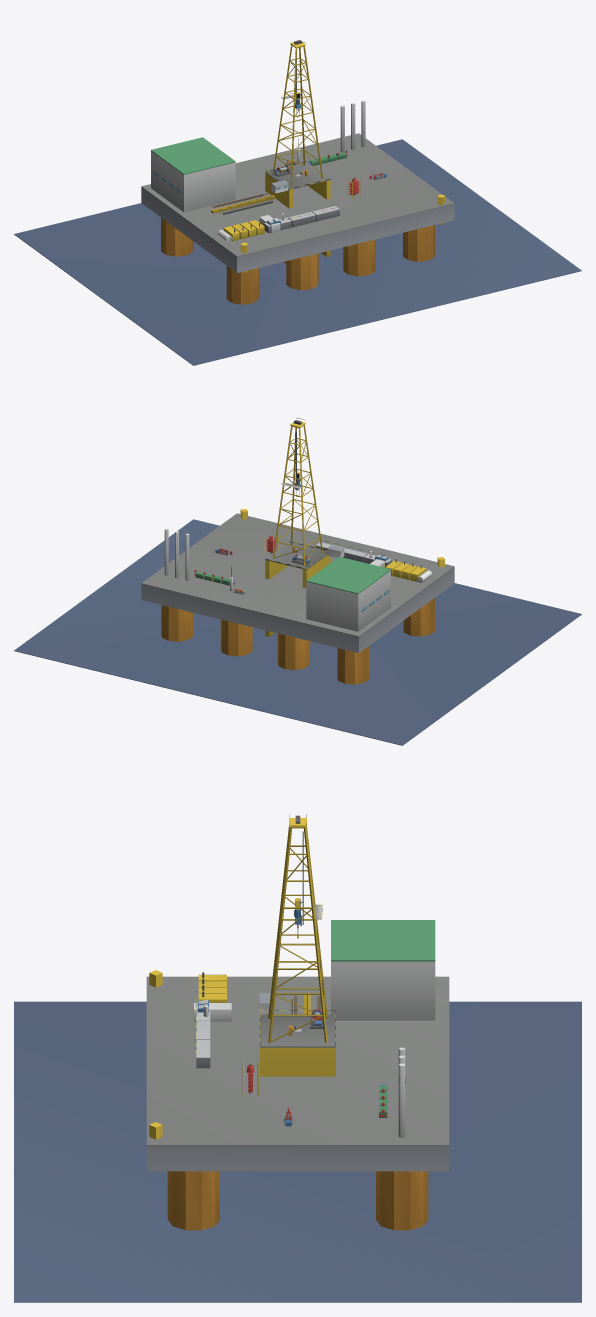
File: semi_low.glb
The picture shows the model from 3 angles, top to bottom: view 1: azimuth 30°, elevation 25°; view 2: azimuth 150°, elevation 25°; view 3: azimuth 270°, elevation 25°; orthographic projection. The views are drawn at different scales.
Visible parts, largest first — view 1: hull__sea, hull__hull, mast__mast, mast__floor, mudtanks__tanks, mast__substructure, generators__gensets; view 2: hull__sea, hull__hull, mast__mast, mast__floor, mast__substructure, generators__gensets, mudtanks__tanks; view 3: hull__sea, hull__hull, mast__mast, mast__substructure, mast__floor, mudtanks__tanks, generators__gensets.
Part boxes in pixels (<box>): hull__sea: <box>14,139,581,365</box>; hull__hull: <box>141,100,454,304</box>; mast__mast: <box>272,45,323,186</box>; mast__floor: <box>265,161,330,189</box>; mudtanks__tanks: <box>264,206,339,233</box>; mast__substructure: <box>265,173,330,263</box>; generators__gensets: <box>223,220,264,241</box>; hull__sea: <box>14,519,581,745</box>; hull__hull: <box>141,509,454,684</box>; mast__mast: <box>272,425,323,566</box>; mast__floor: <box>265,541,327,569</box>; mast__substructure: <box>265,555,330,643</box>; generators__gensets: <box>385,559,426,581</box>; mudtanks__tanks: <box>315,540,391,567</box>; hull__sea: <box>14,1001,581,1302</box>; hull__hull: <box>146,920,449,1230</box>; mast__mast: <box>268,827,327,1042</box>; mast__substructure: <box>260,1047,335,1076</box>; mast__floor: <box>260,1010,335,1047</box>; mudtanks__tanks: <box>196,999,210,1068</box>; generators__gensets: <box>198,972,226,1002</box>.
Size of the model in its own units: 150 by 99.76 by 120.
